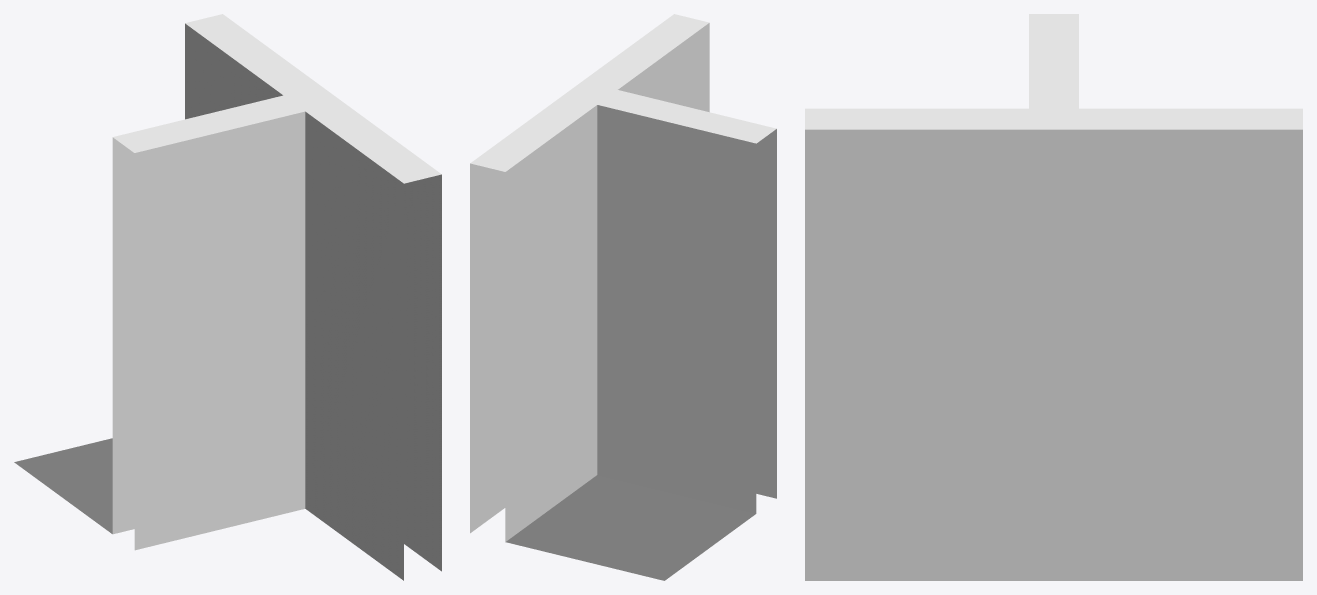
File: E_Wall_T_Shape_Elevator_R.fbx
3 renders of one model, left to right at view 1: azimuth 30°, elevation 25°; view 2: azimuth 150°, elevation 25°; view 3: azimuth 270°, elevation 25°, orthographic. The views are drawn at different scales.
Parts seen in each view (by area): view 1: E_Wall_T_Shape_Elevator_R; view 2: E_Wall_T_Shape_Elevator_R; view 3: E_Wall_T_Shape_Elevator_R.
Part boxes in pixels (x1=…): E_Wall_T_Shape_Elevator_R: x1=14, y1=14, x2=441, y2=580; E_Wall_T_Shape_Elevator_R: x1=470, y1=14, x2=776, y2=580; E_Wall_T_Shape_Elevator_R: x1=805, y1=14, x2=1302, y2=580.
Size of the model in its own units: 110 by 200 by 200.
